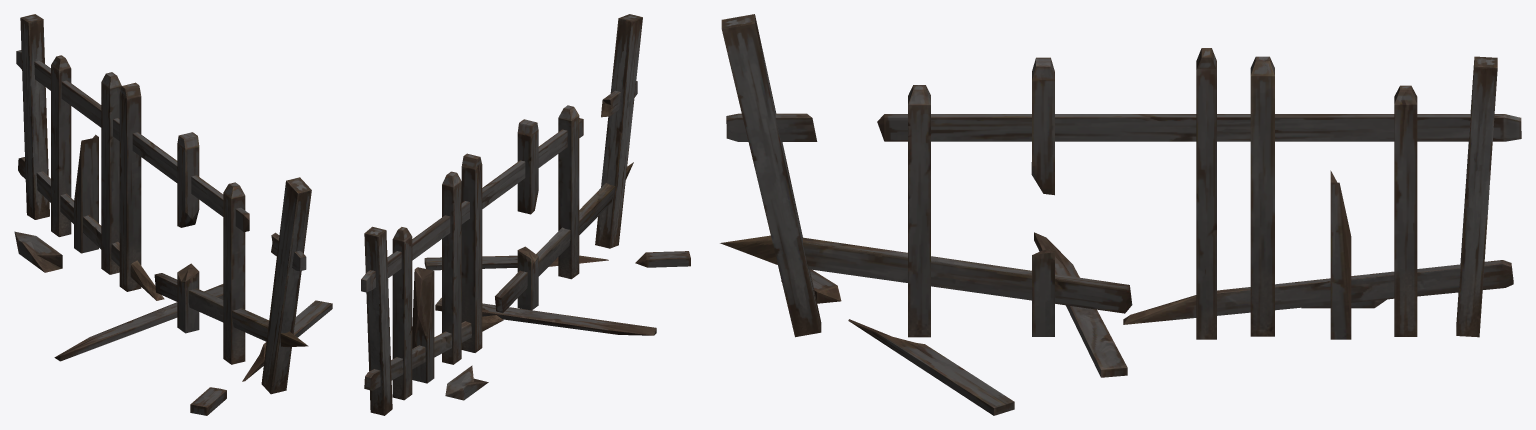
The model's file is Stage-muwu-zhalan3.FBX.
The picture shows the model from 3 angles, left to right: view 1: azimuth 30°, elevation 25°; view 2: azimuth 150°, elevation 25°; view 3: azimuth 270°, elevation 25°; orthographic projection. The views are drawn at different scales.
Parts seen in each view (by area): view 1: fence_02; view 2: fence_02; view 3: fence_02.
Part boxes in pixels (x1=…): fence_02: x1=14, y1=14, x2=332, y2=415; fence_02: x1=361, y1=14, x2=690, y2=415; fence_02: x1=720, y1=14, x2=1521, y2=415.
Size of the model in its own units: 1.56 by 1.3 by 2.98.
Materials: 1 (1 with a texture image).
